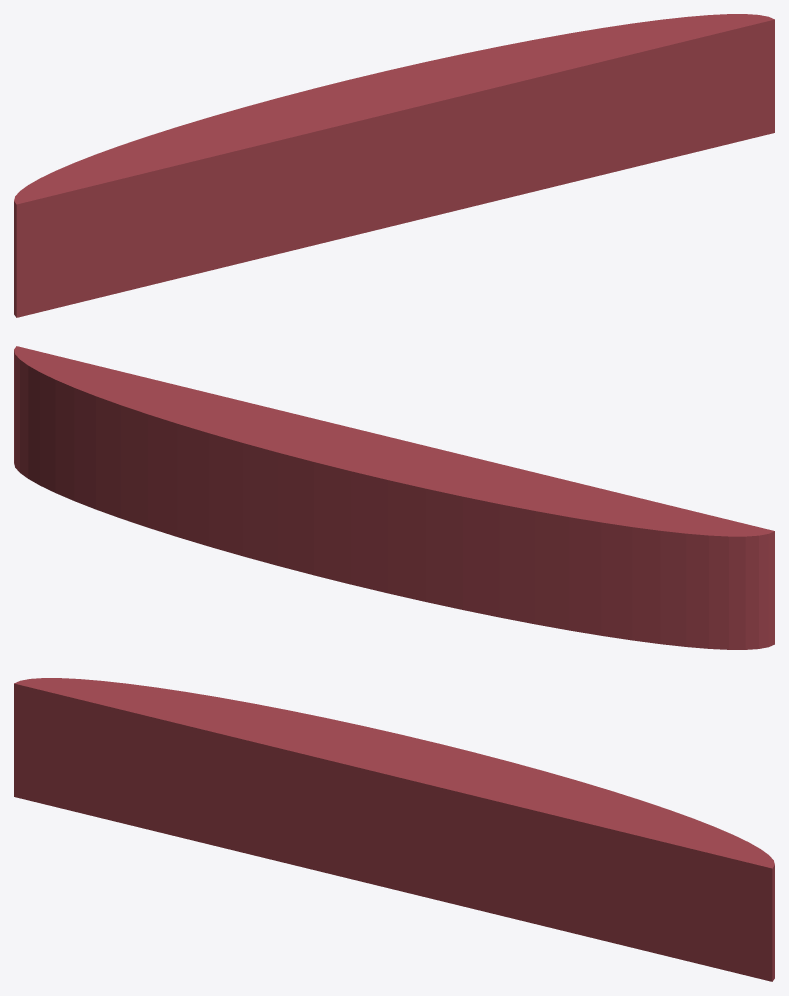
File: elasticity_shield_small.glb
3 renders of one model, top to bottom at view 1: azimuth 30°, elevation 25°; view 2: azimuth 150°, elevation 25°; view 3: azimuth 330°, elevation 25°, orthographic.
Parts seen in each view (by area): view 1: Mesh_Mesh_head_geo.001_lambert2SG.001; view 2: Mesh_Mesh_head_geo.001_lambert2SG.001; view 3: Mesh_Mesh_head_geo.001_lambert2SG.001.
Boxes of the visible parts, x1,y1,x2,y2 form: Mesh_Mesh_head_geo.001_lambert2SG.001: [14, 14, 774, 317]; Mesh_Mesh_head_geo.001_lambert2SG.001: [14, 346, 774, 649]; Mesh_Mesh_head_geo.001_lambert2SG.001: [14, 678, 774, 981].
Bounding box in the file's own units: 0.049 × 0.007 × 0.005.
